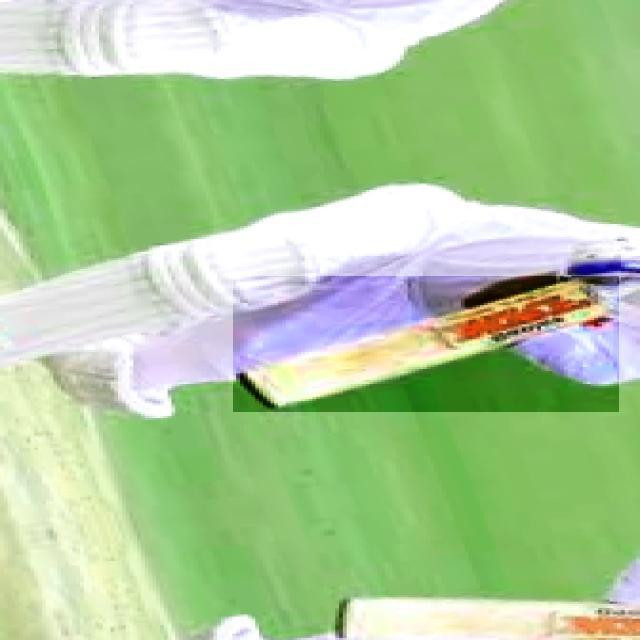bat: (234, 278, 618, 414)
toe: (235, 368, 280, 414)
